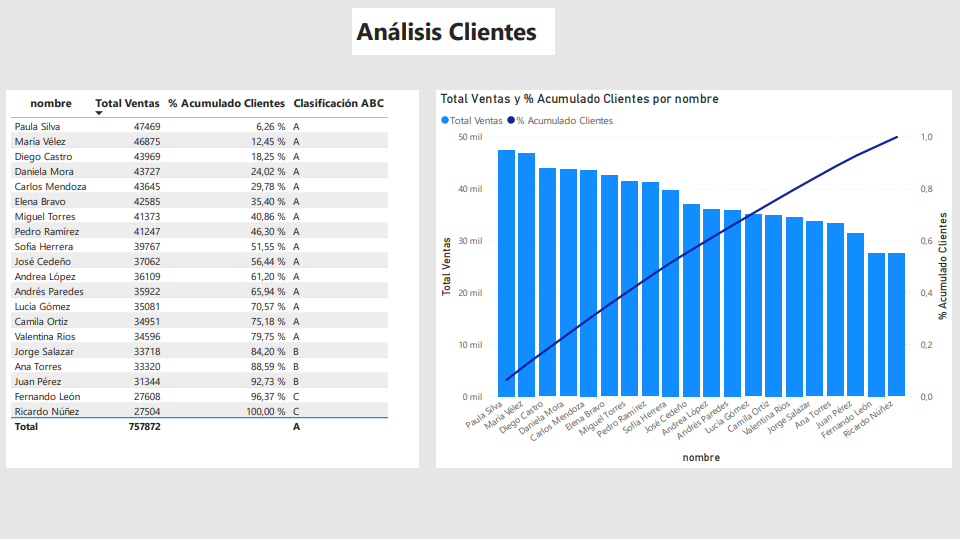

The dashboard page shown, as its layout file describes it:
{"tool":"powerbi","page":{"name":"Análisis Clientes","canvas":[1280,720],"ordinal":2},"visuals":[{"type":"tableEx","fields":{"Values":["clientes.nombre","Medidas.Total Ventas","Medidas.% Acumulado Clientes","Medidas.Clasificación ABC"]},"box":[10,122,549,503],"z":0},{"type":"lineStackedColumnComboChart","fields":{"Y":["Medidas.Total Ventas"],"Y2":["Medidas.% Acumulado Clientes"],"Category":["clientes.nombre"]},"box":[583.2,122.4,685.4,502.6],"z":1000},{"type":"textbox","box":[471,13,270,62],"z":1001}]}

Visuals, with their boxes in screenshot pixels (x1, y1, x2, y2), scaled from the page's 1280x720 canvas onto the 960x544 screenshot:
tableEx - clientes.nombre x Medidas.Total Ventas: select_region(8, 92, 419, 472)
lineStackedColumnComboChart - Medidas.Total Ventas x Medidas.% Acumulado Clientes: select_region(437, 92, 951, 472)
textbox: select_region(353, 10, 556, 57)
